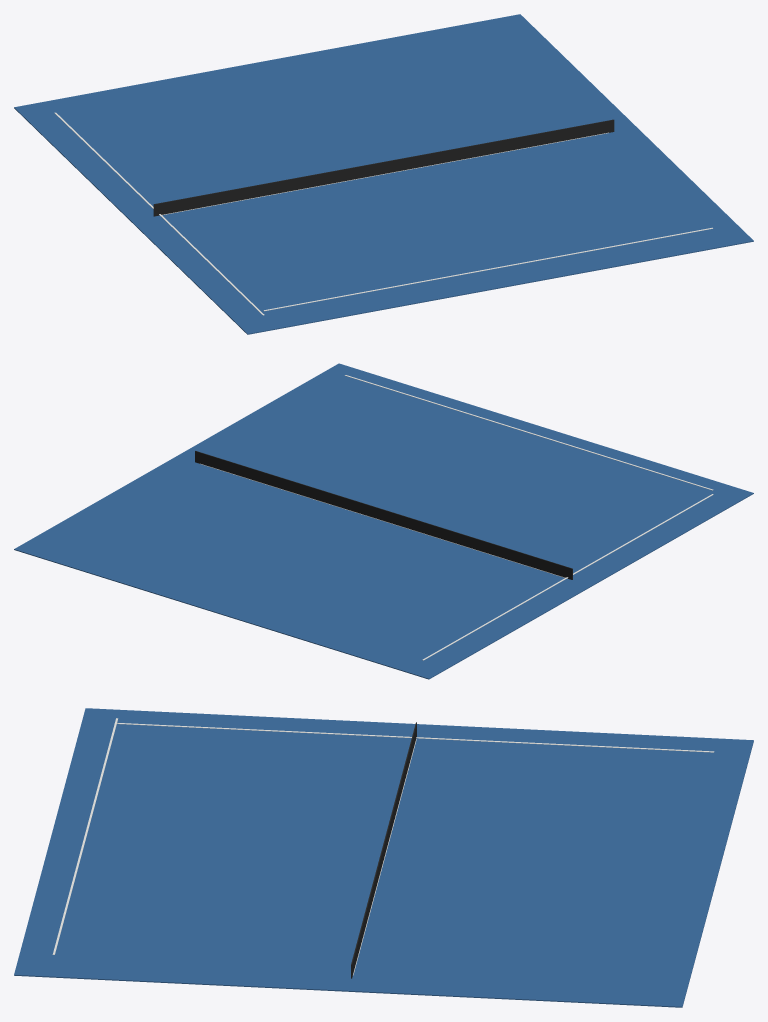
Rendered from nd_pitch_370616424.glb.
The picture shows the model from 3 angles, top to bottom: view 1: azimuth 30°, elevation 25°; view 2: azimuth 150°, elevation 25°; view 3: azimuth 270°, elevation 25°; orthographic projection. The views are drawn at different scales.
Visible parts, largest first — view 1: nd_pitch_370616424_lod0; view 2: nd_pitch_370616424_lod0; view 3: nd_pitch_370616424_lod0.
Part boxes in pixels (x1=…): nd_pitch_370616424_lod0: x1=14, y1=14, x2=753, y2=334; nd_pitch_370616424_lod0: x1=14, y1=363, x2=753, y2=679; nd_pitch_370616424_lod0: x1=14, y1=708, x2=753, y2=1007.
Size of what is drawn, in the model's own units: 39.29 by 1.73 by 41.14.
